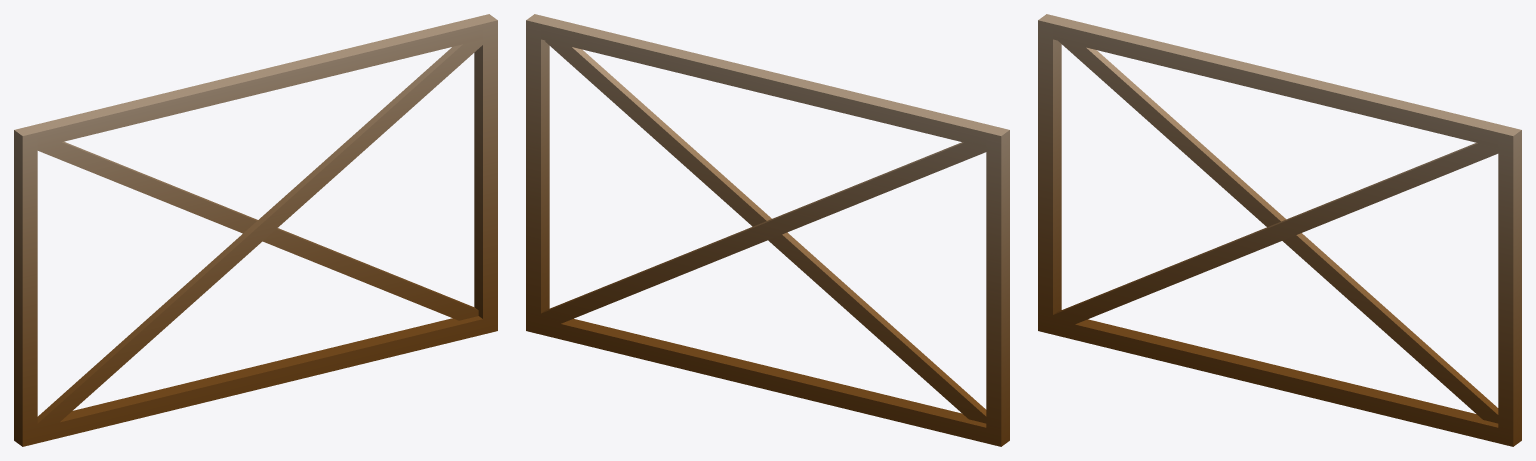
The model's file is Fence.FBX.
3 views of the same model, side by side, from view 1: azimuth 30°, elevation 25°; view 2: azimuth 150°, elevation 25°; view 3: azimuth 330°, elevation 25° (orthographic).
Visible parts, largest first — view 1: Box008; view 2: Box008; view 3: Box008.
Part boxes in pixels (bbox=[...]): Box008: bbox=[14, 14, 497, 446]; Box008: bbox=[526, 14, 1009, 446]; Box008: bbox=[1038, 14, 1521, 446].
Size of the model in its own units: 160 by 100 by 5.
1 material, 1 textured.
